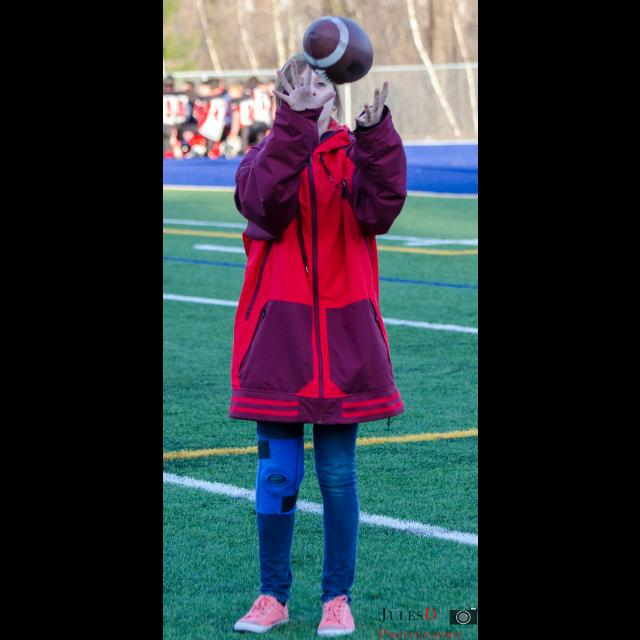Football: (300, 16, 374, 88)
